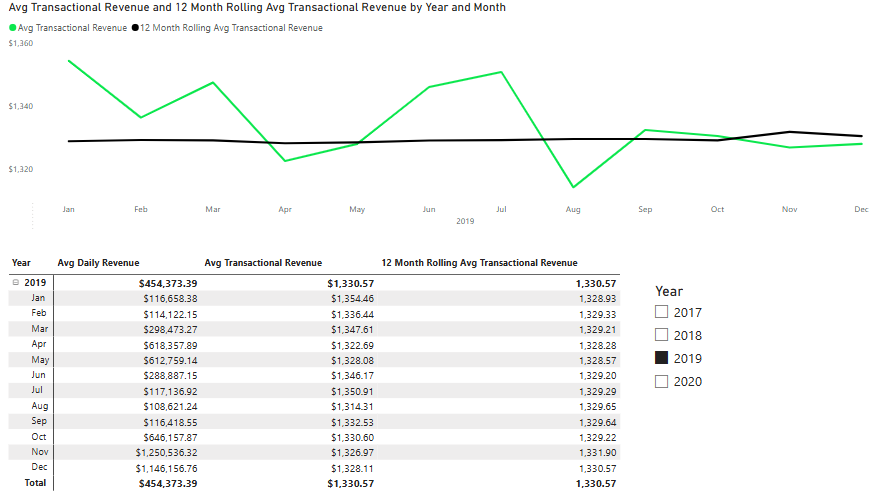

The page's visual inventory and layout, read from the dashboard file:
{"tool":"powerbi","page":{"name":"Avg Rev Last 12 Months ","canvas":[1280,720],"ordinal":2},"visuals":[{"type":"lineChart","fields":{"Category":["dDate.Year","dDate.Month"],"Y":["fTransactions.Avg Transactional Revenue","fTransactions.12 Month Rolling Avg Transactional Revenue"]},"box":[10,0,1270,338.3],"z":0},{"type":"pivotTable","fields":{"Rows":["dDate.Year","dDate.Month"],"Values":["fTransactions.Avg Daily Revenue","fTransactions.Avg Transactional Revenue","fTransactions.12 Month Rolling Avg Transactional Revenue"]},"box":[10,360,915,348.3],"z":1000},{"type":"slicer","fields":{"Values":["dDate.Year"]},"box":[925,398.3,186.7,293.3],"z":2000}]}

Visuals, with their boxes in screenshot pixels (x1, y1, x2, y2), scaled from the page's 1280x720 canvas onto the 891x503 screenshot:
lineChart - dDate.Year x dDate.Month: 7:0:890:236
pivotTable - dDate.Year x dDate.Month: 7:252:644:495
slicer - dDate.Year: 644:278:774:483
